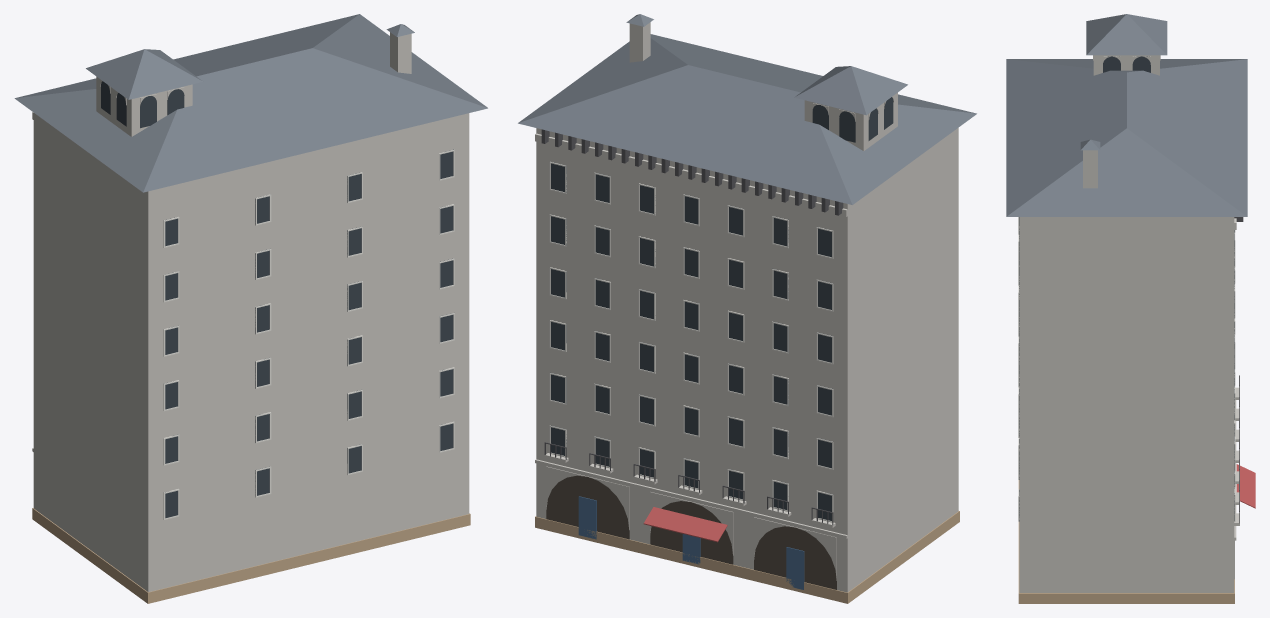
The model's file is ca_classical7_shops.glb.
The picture shows the model from 3 angles, left to right: view 1: azimuth 30°, elevation 25°; view 2: azimuth 150°, elevation 25°; view 3: azimuth 270°, elevation 25°; orthographic projection. The views are drawn at different scales.
Visible parts, largest first — view 1: ca_classical7_shops; view 2: ca_classical7_shops; view 3: ca_classical7_shops.
Boxes of the visible parts, x1,y1,x2,y2 form: ca_classical7_shops: [14, 14, 487, 603]; ca_classical7_shops: [518, 14, 976, 603]; ca_classical7_shops: [1006, 14, 1255, 603].
Size of the model in its own units: 22.6 by 31.2 by 15.1.
